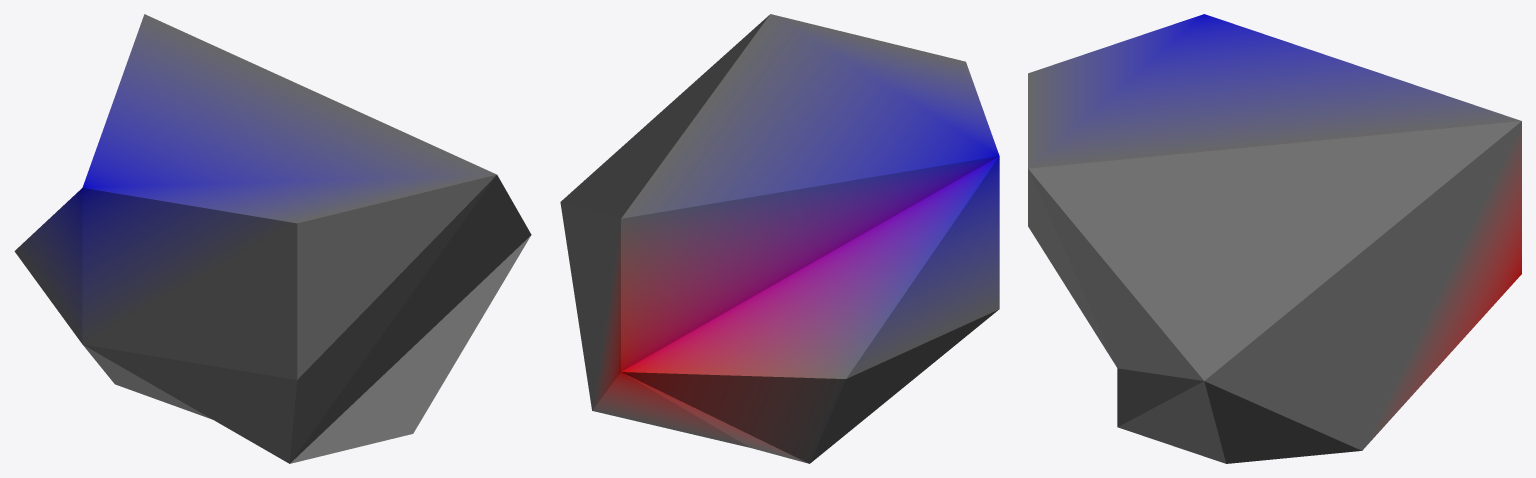
File: gate_re_cleaning_conquest_6.obj
3 renders of one model, left to right at view 1: azimuth 30°, elevation 25°; view 2: azimuth 150°, elevation 25°; view 3: azimuth 270°, elevation 25°, orthographic. The views are drawn at different scales.
Bounding box in the file's own units: 1.85 × 1.31 × 1.81.
